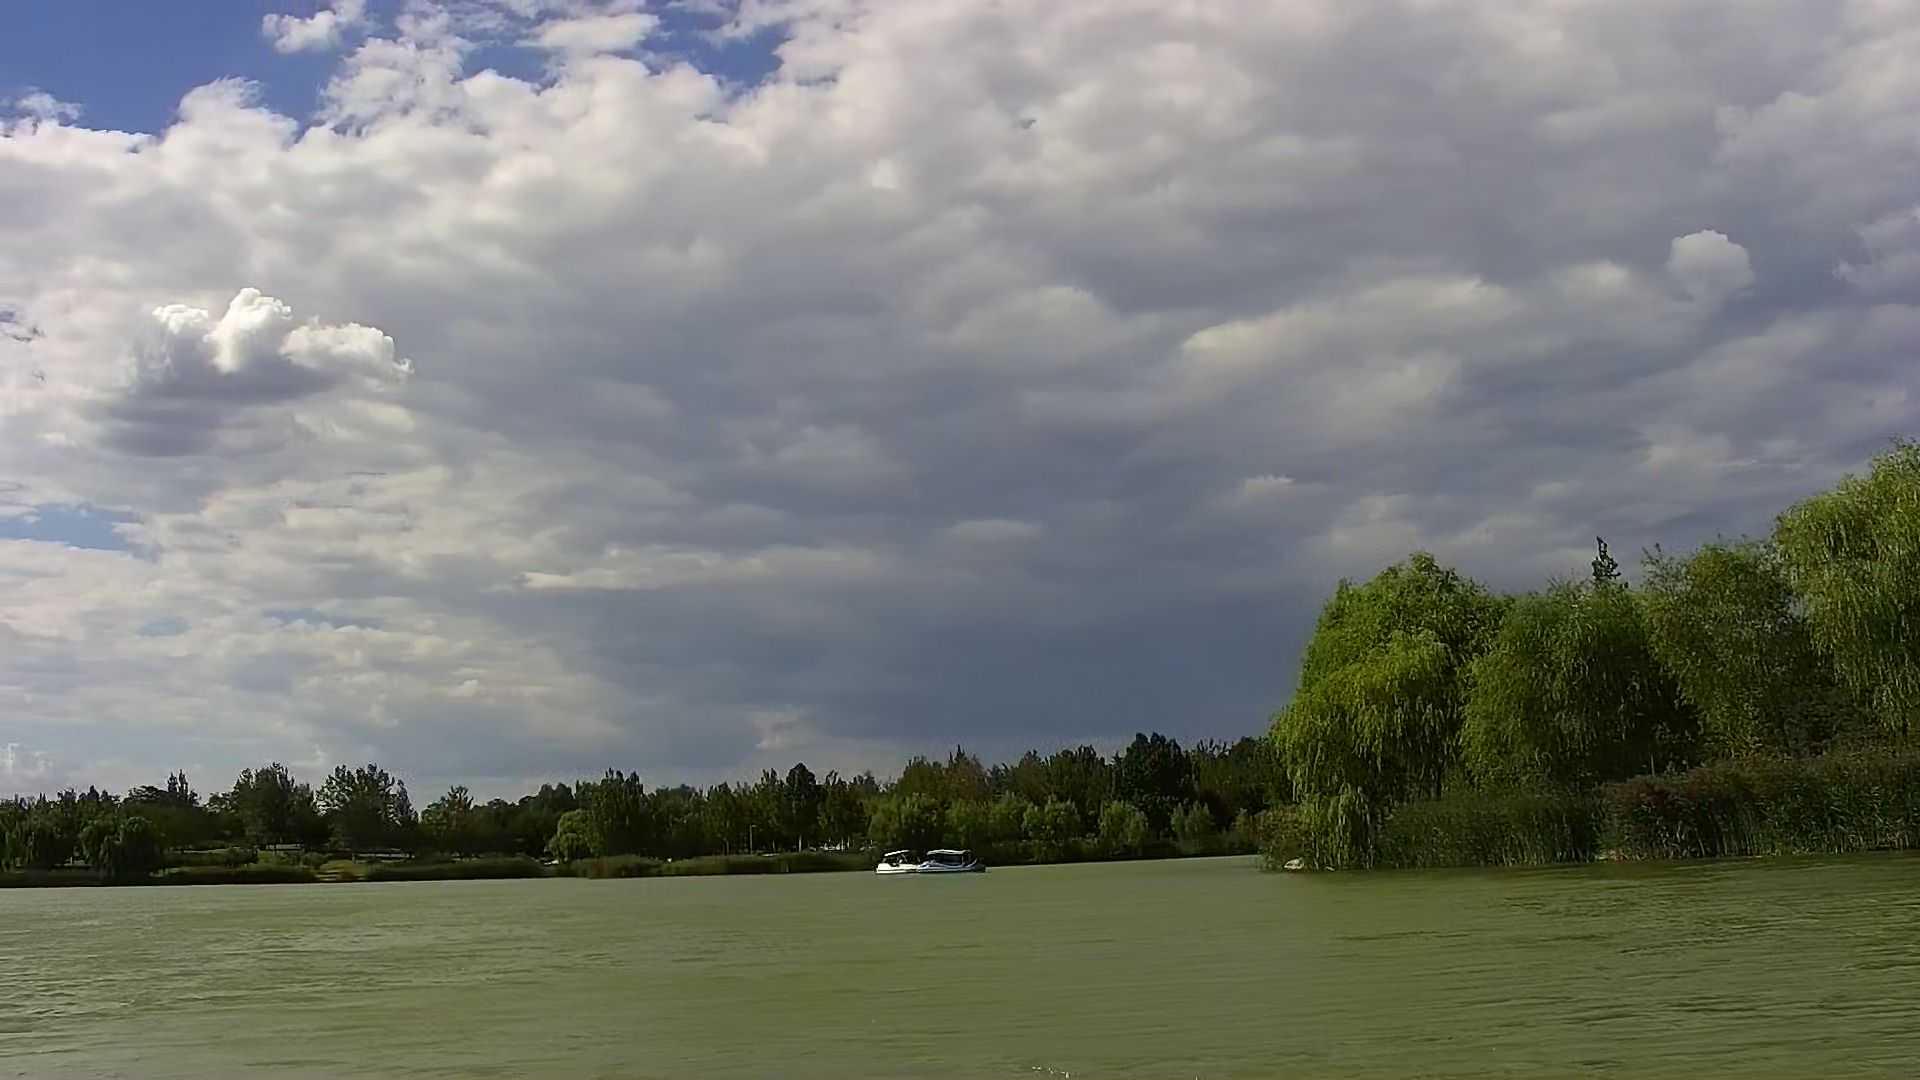boat: (920, 849, 990, 873), (872, 849, 931, 876)
rock: (1282, 856, 1307, 873)
